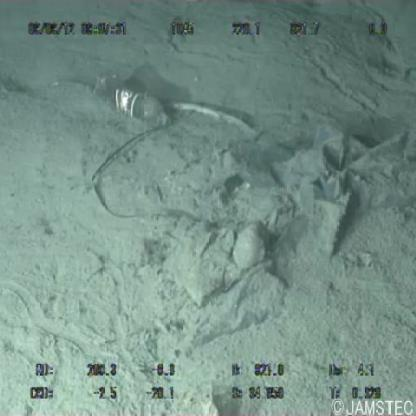Rác: (98, 66, 180, 136)
